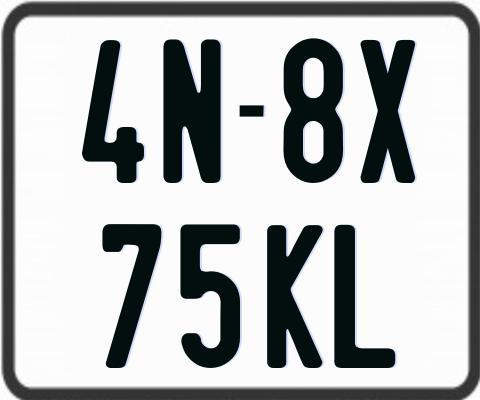4: (81, 38, 149, 186)
5: (179, 224, 241, 372)
7: (102, 221, 165, 369)
8: (281, 38, 343, 189)
K: (264, 222, 326, 366)
L: (332, 224, 399, 373)
N: (163, 36, 222, 182)
X: (358, 37, 417, 183)
